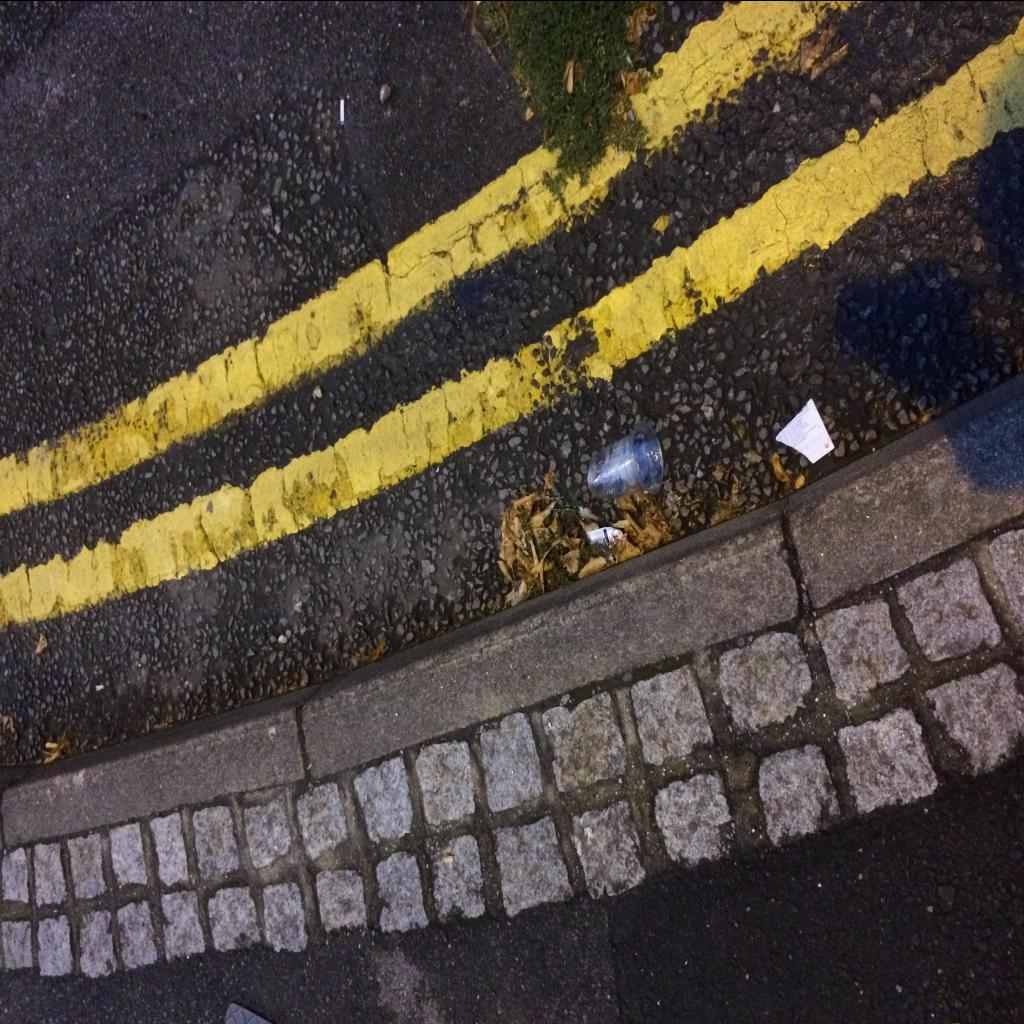Disposable plastic cup: (588, 418, 664, 498)
Normal paper: (776, 397, 834, 463)
Unlabeled litter: (587, 526, 624, 561)
